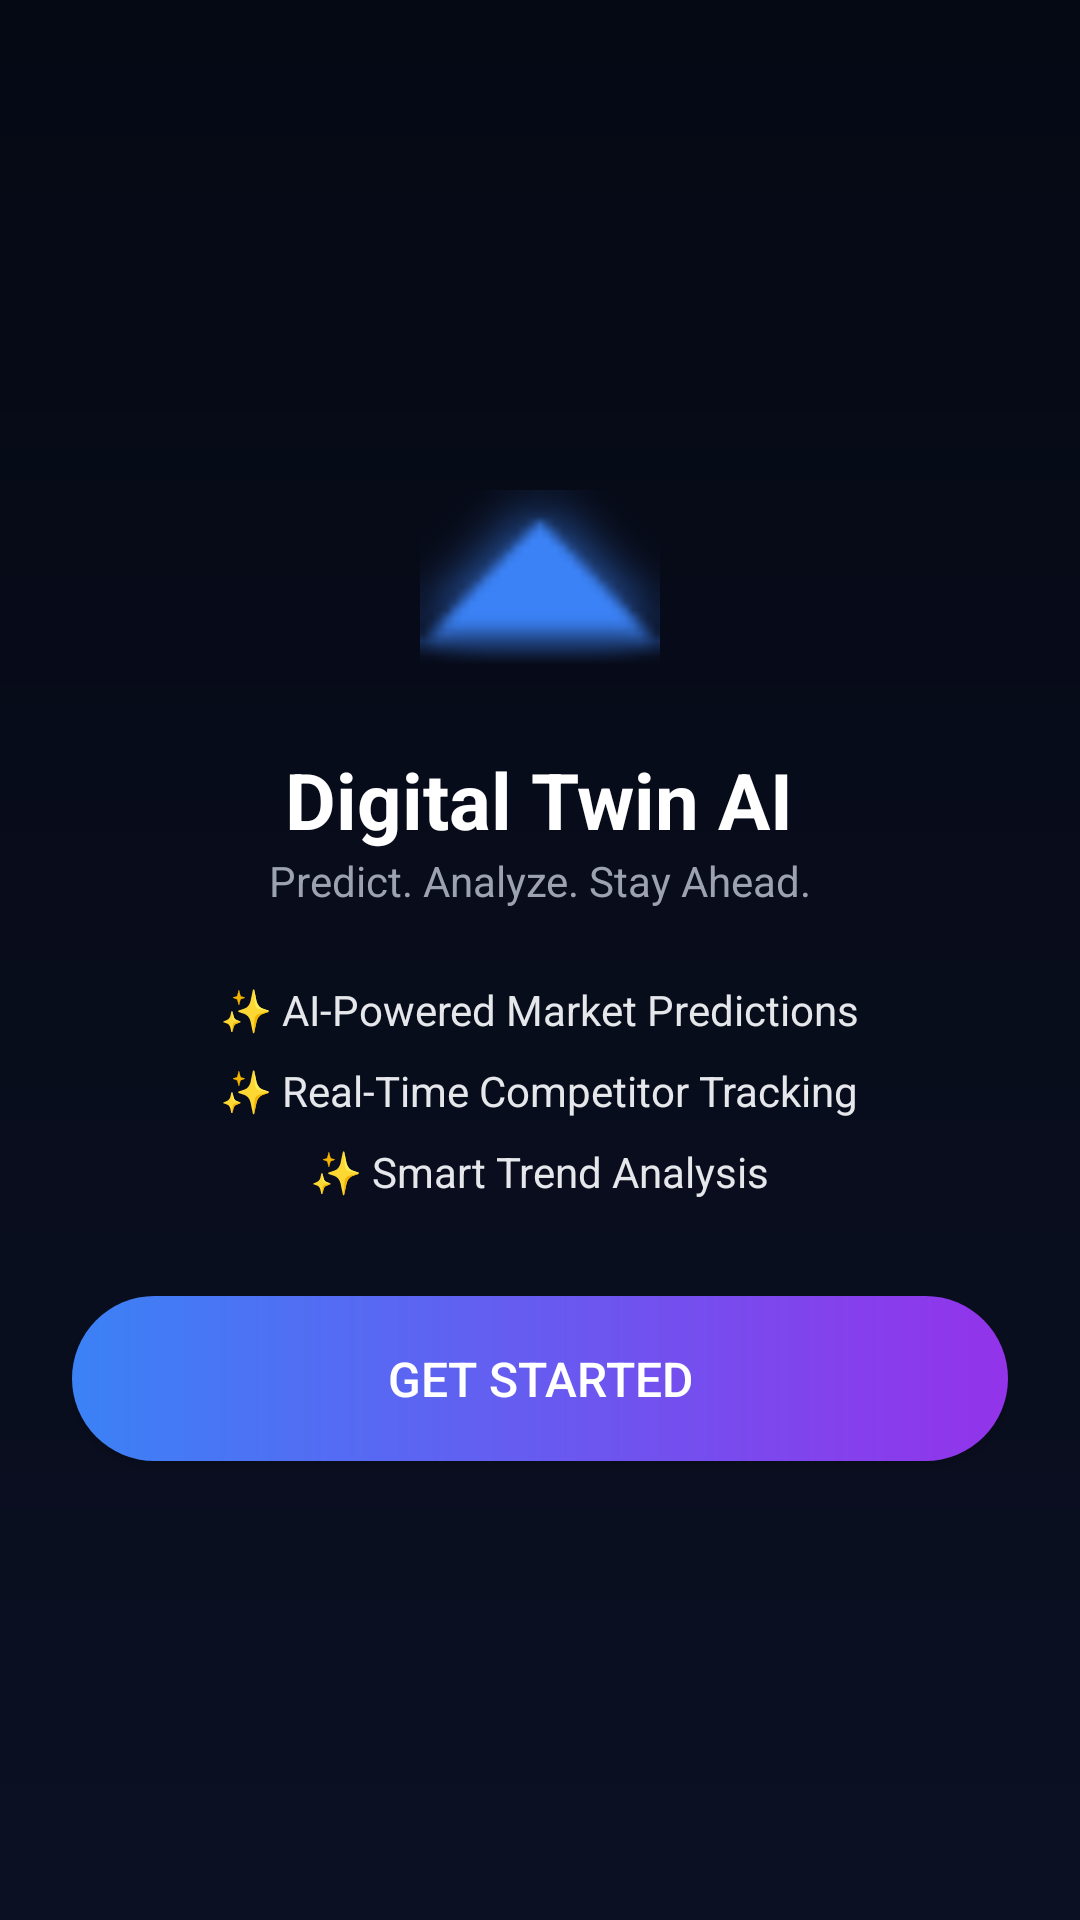

Locate icon controls on the screen. Image size 1080*1920, boxes as (x1, y1, x2, y2).
arrow up float: (420, 497, 660, 658)
